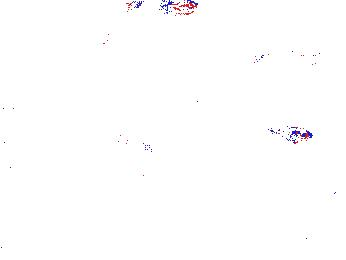X-ray fish: (143, 66, 164, 113), (321, 179, 346, 207)
red belly glassfish: (269, 125, 313, 145)
redtail glassfish: (252, 47, 324, 78), (127, 1, 198, 19)
